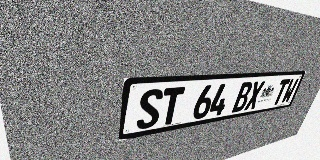4: (208, 83, 232, 117)
6: (191, 84, 216, 120)
B: (231, 82, 254, 113)
S: (136, 88, 164, 130)
T: (158, 87, 185, 126), (271, 79, 291, 105)
W: (280, 78, 299, 104)
X: (244, 81, 265, 110)
